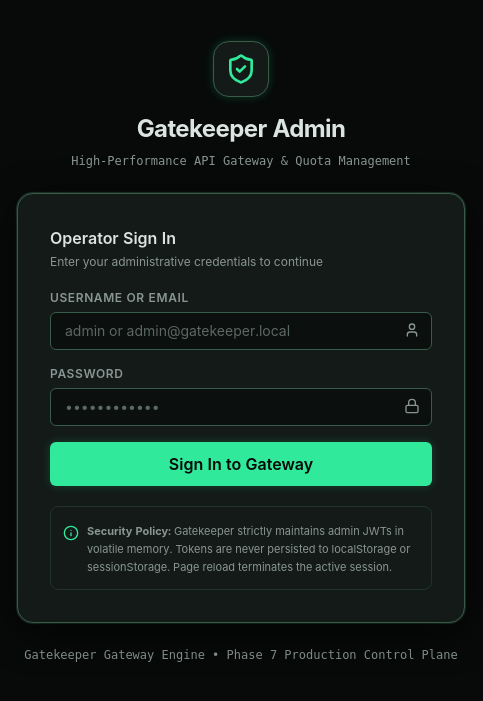
Test: Login Screen › validates required fields before submitting
What coordinates should you click on to do the following:
click the button "Sign In to Gateway"
I would click on:
 (241, 464)
Its box is x1=50 y1=442 x2=432 y2=486.
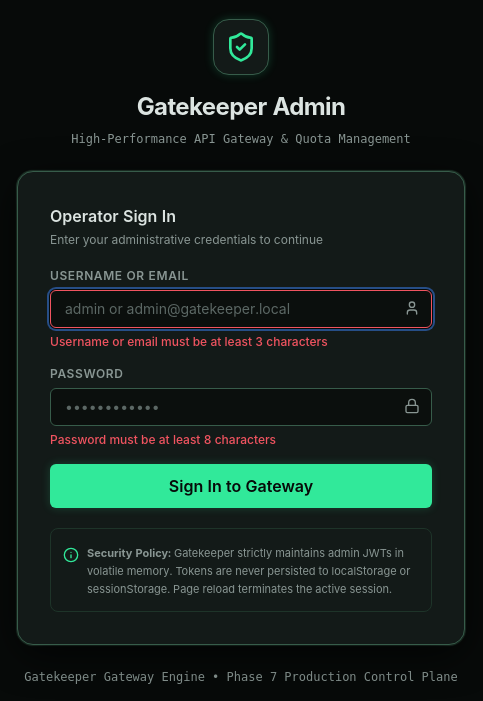
Check: the text "Username or email must be at least 3 characters" is shown, box x1=50 y1=334 x2=328 y2=349
Check: the text "Password must be at least 8 characters" is shown, box x1=50 y1=432 x2=276 y2=447
